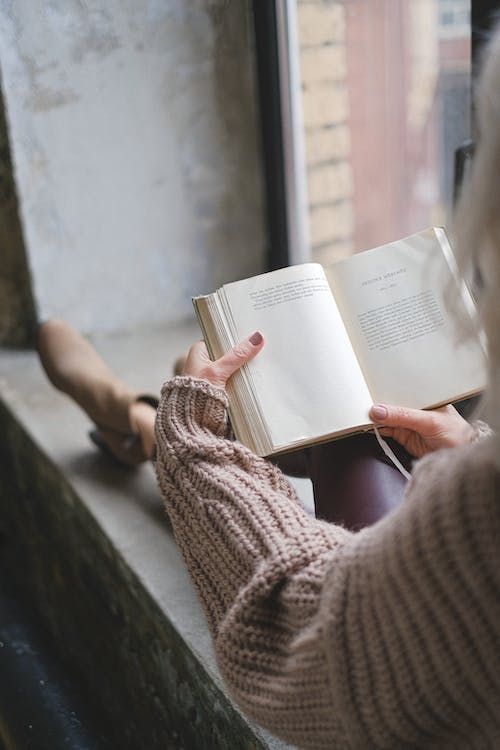book: (194, 224, 500, 459)
